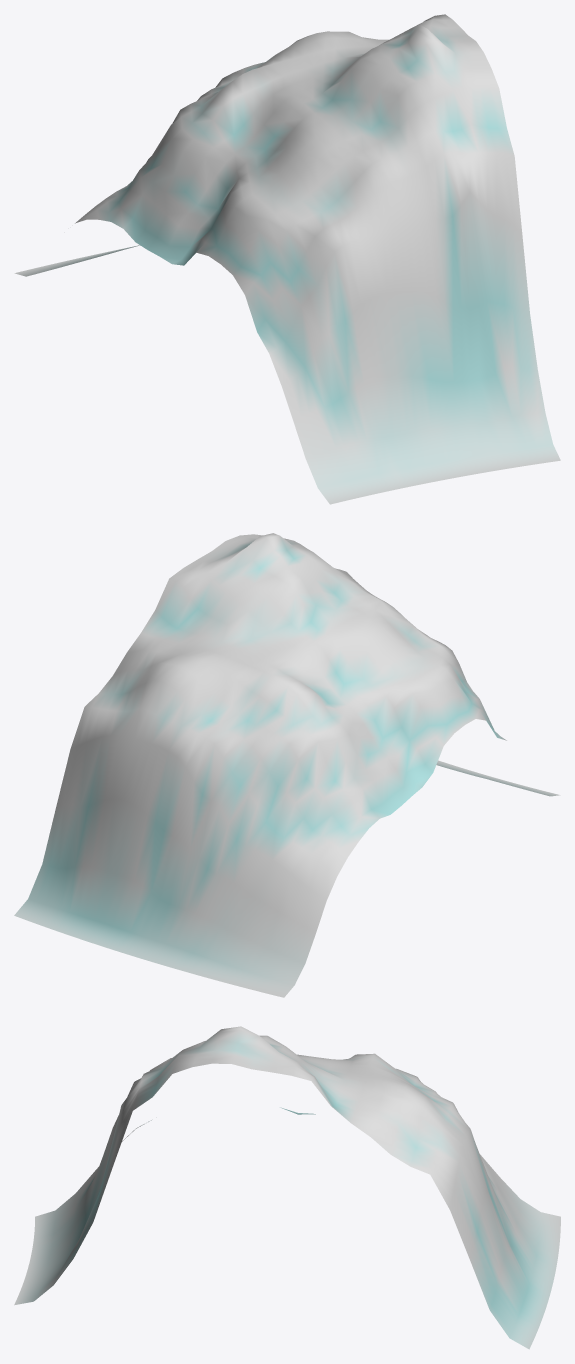
The model's file is near_10.glb.
3 views of the same model, one above another, from view 1: azimuth 30°, elevation 25°; view 2: azimuth 150°, elevation 25°; view 3: azimuth 270°, elevation 25° (orthographic). The views are drawn at different scales.
Visible parts, largest first — view 1: Mountain; view 2: Mountain; view 3: Mountain.
Boxes of the visible parts, x1,y1,x2,y2 form: Mountain: (14,14,560,504); Mountain: (14,533,560,997); Mountain: (14,1026,560,1349).
Bounding box in the file's own units: 209 × 203 × 364.
